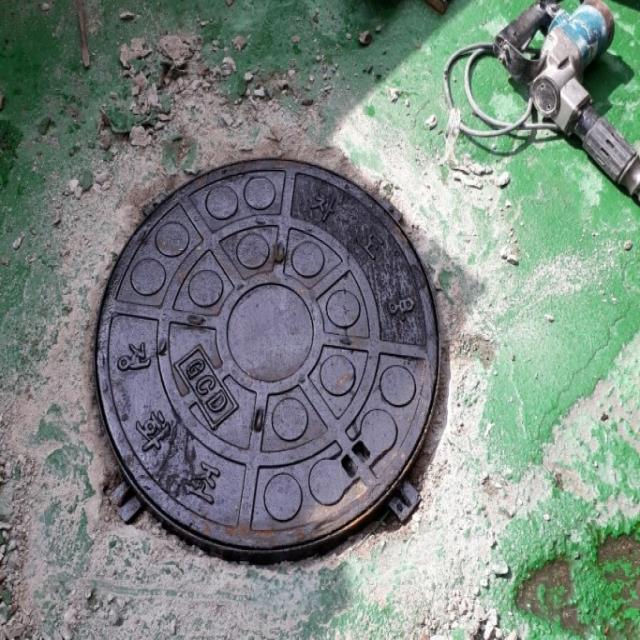manhole: (96, 159, 438, 559)
